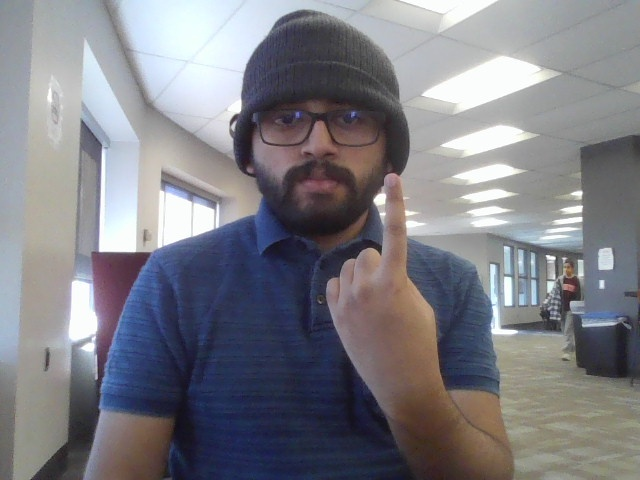one: (310, 172, 471, 400)
